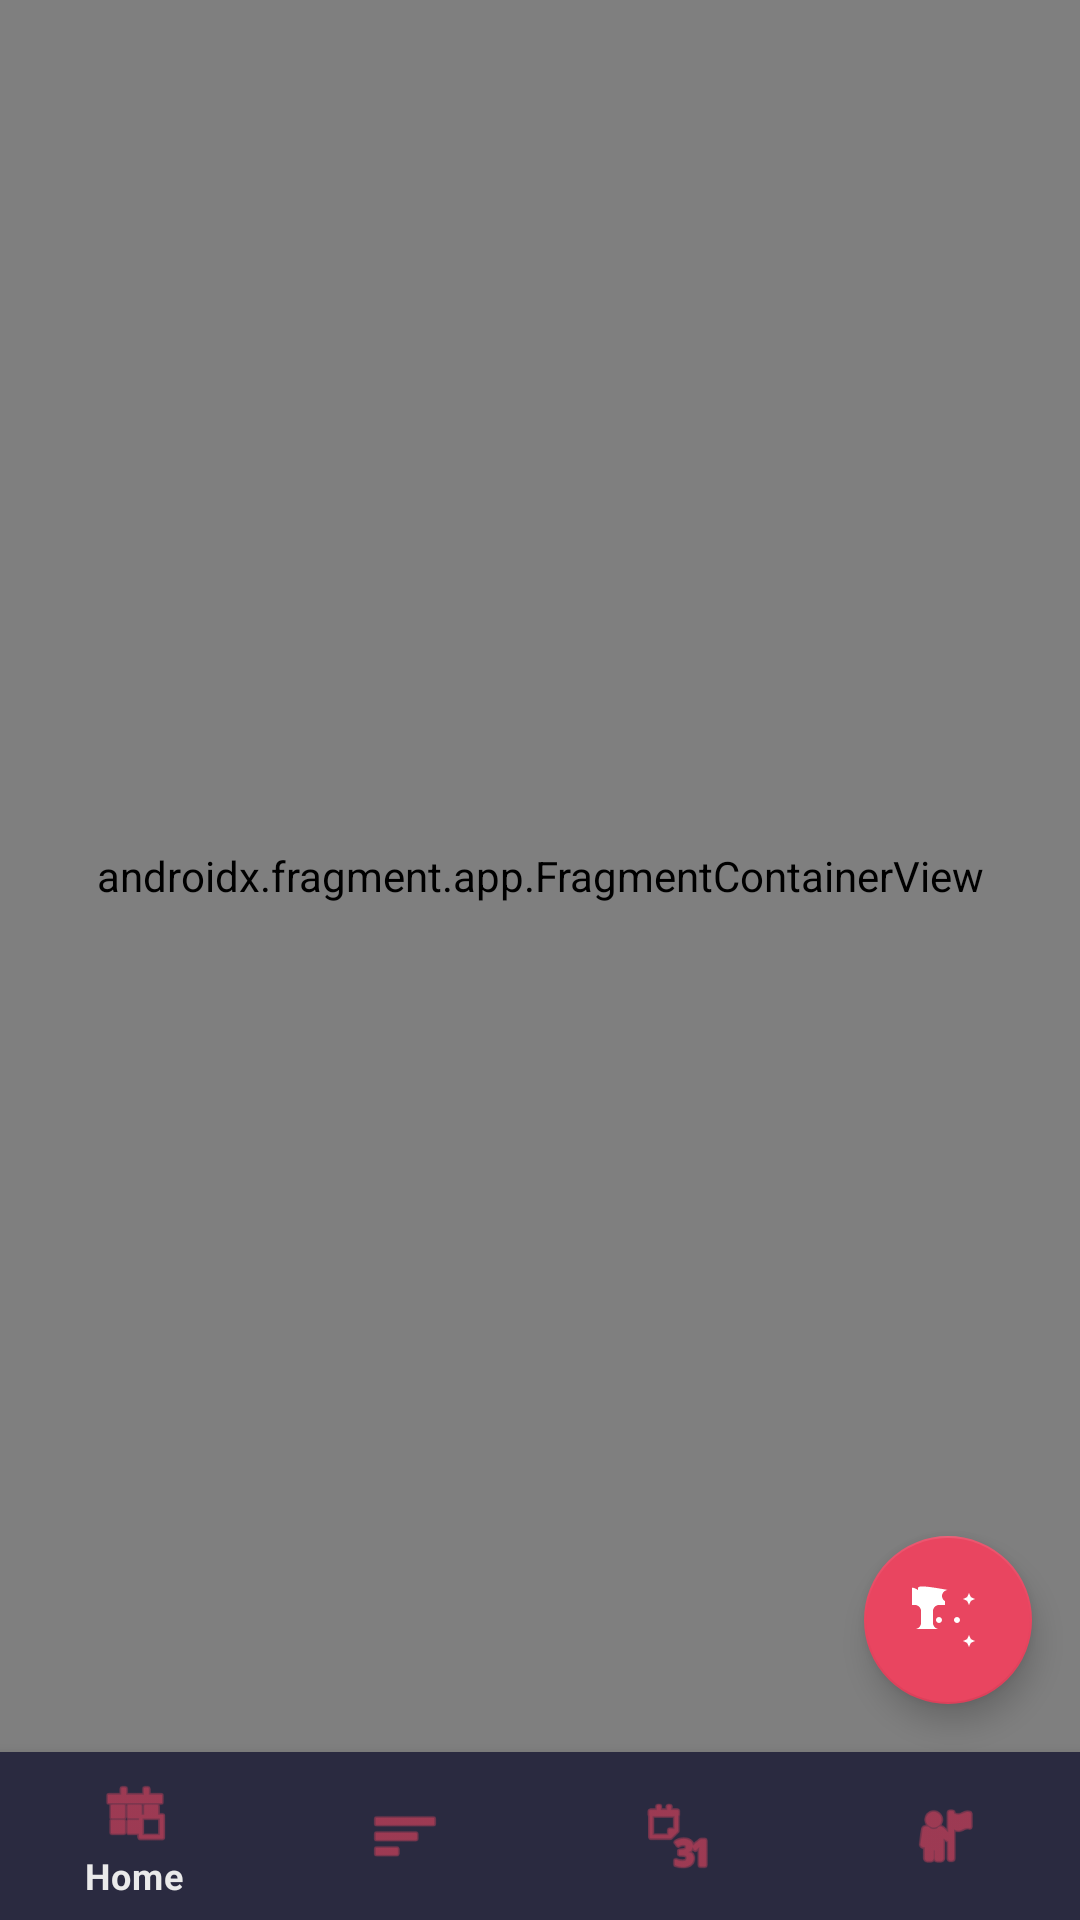

Point at icon controls on the screen. Image size 1080w x 1920h, points as [x,y].
Shishu AI Companion: [948,1620]
